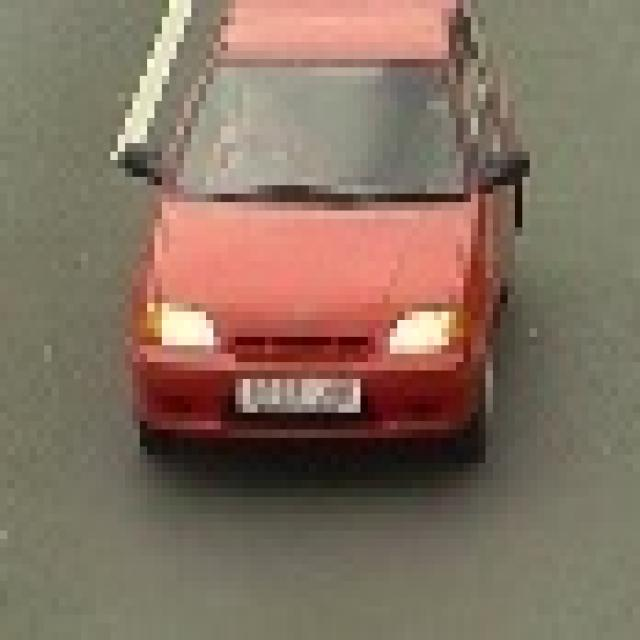red: (136, 0, 501, 472)
